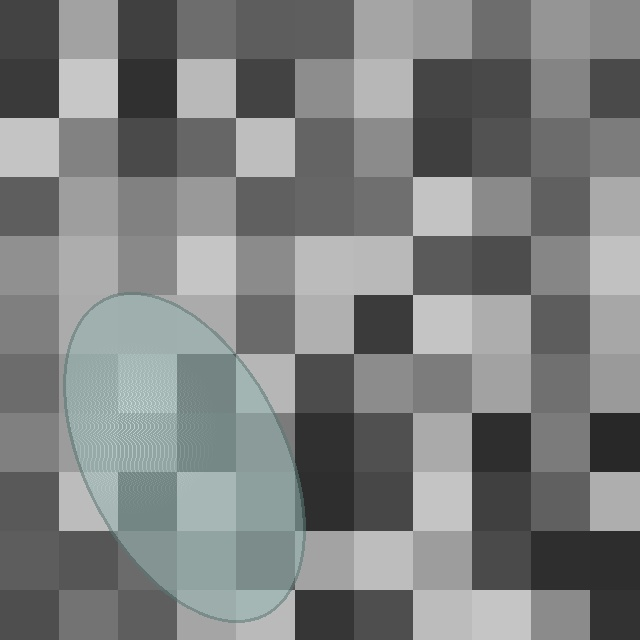lens: (64, 293, 304, 621)
